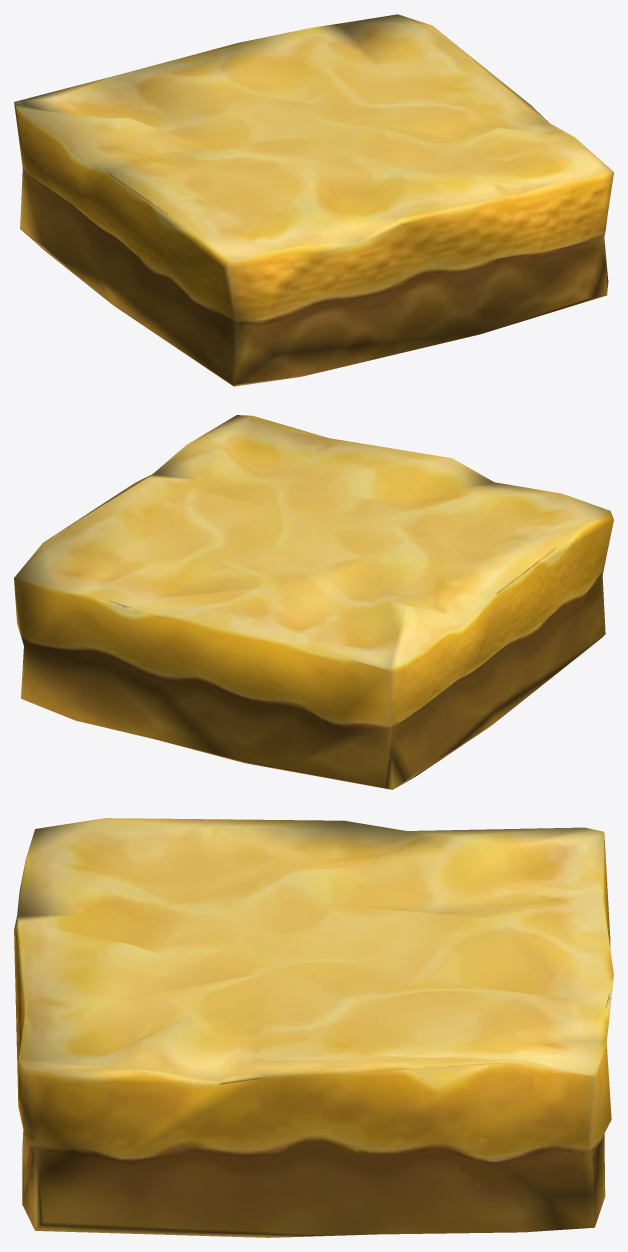
Rendered from gnd_desert.glb.
The picture shows the model from 3 angles, top to bottom: view 1: azimuth 30°, elevation 25°; view 2: azimuth 150°, elevation 25°; view 3: azimuth 270°, elevation 25°; orthographic projection. The views are drawn at different scales.
Parts seen in each view (by area): view 1: Mesh0; view 2: Mesh0; view 3: Mesh0.
Part boxes in pixels (box(x1,y1,x2,y2)): Mesh0: box(14, 14, 613, 386); Mesh0: box(14, 415, 613, 789); Mesh0: box(14, 818, 613, 1237).
Size of the model in its own units: 1.89 by 0.6723 by 1.91.
1 material, 1 textured.
